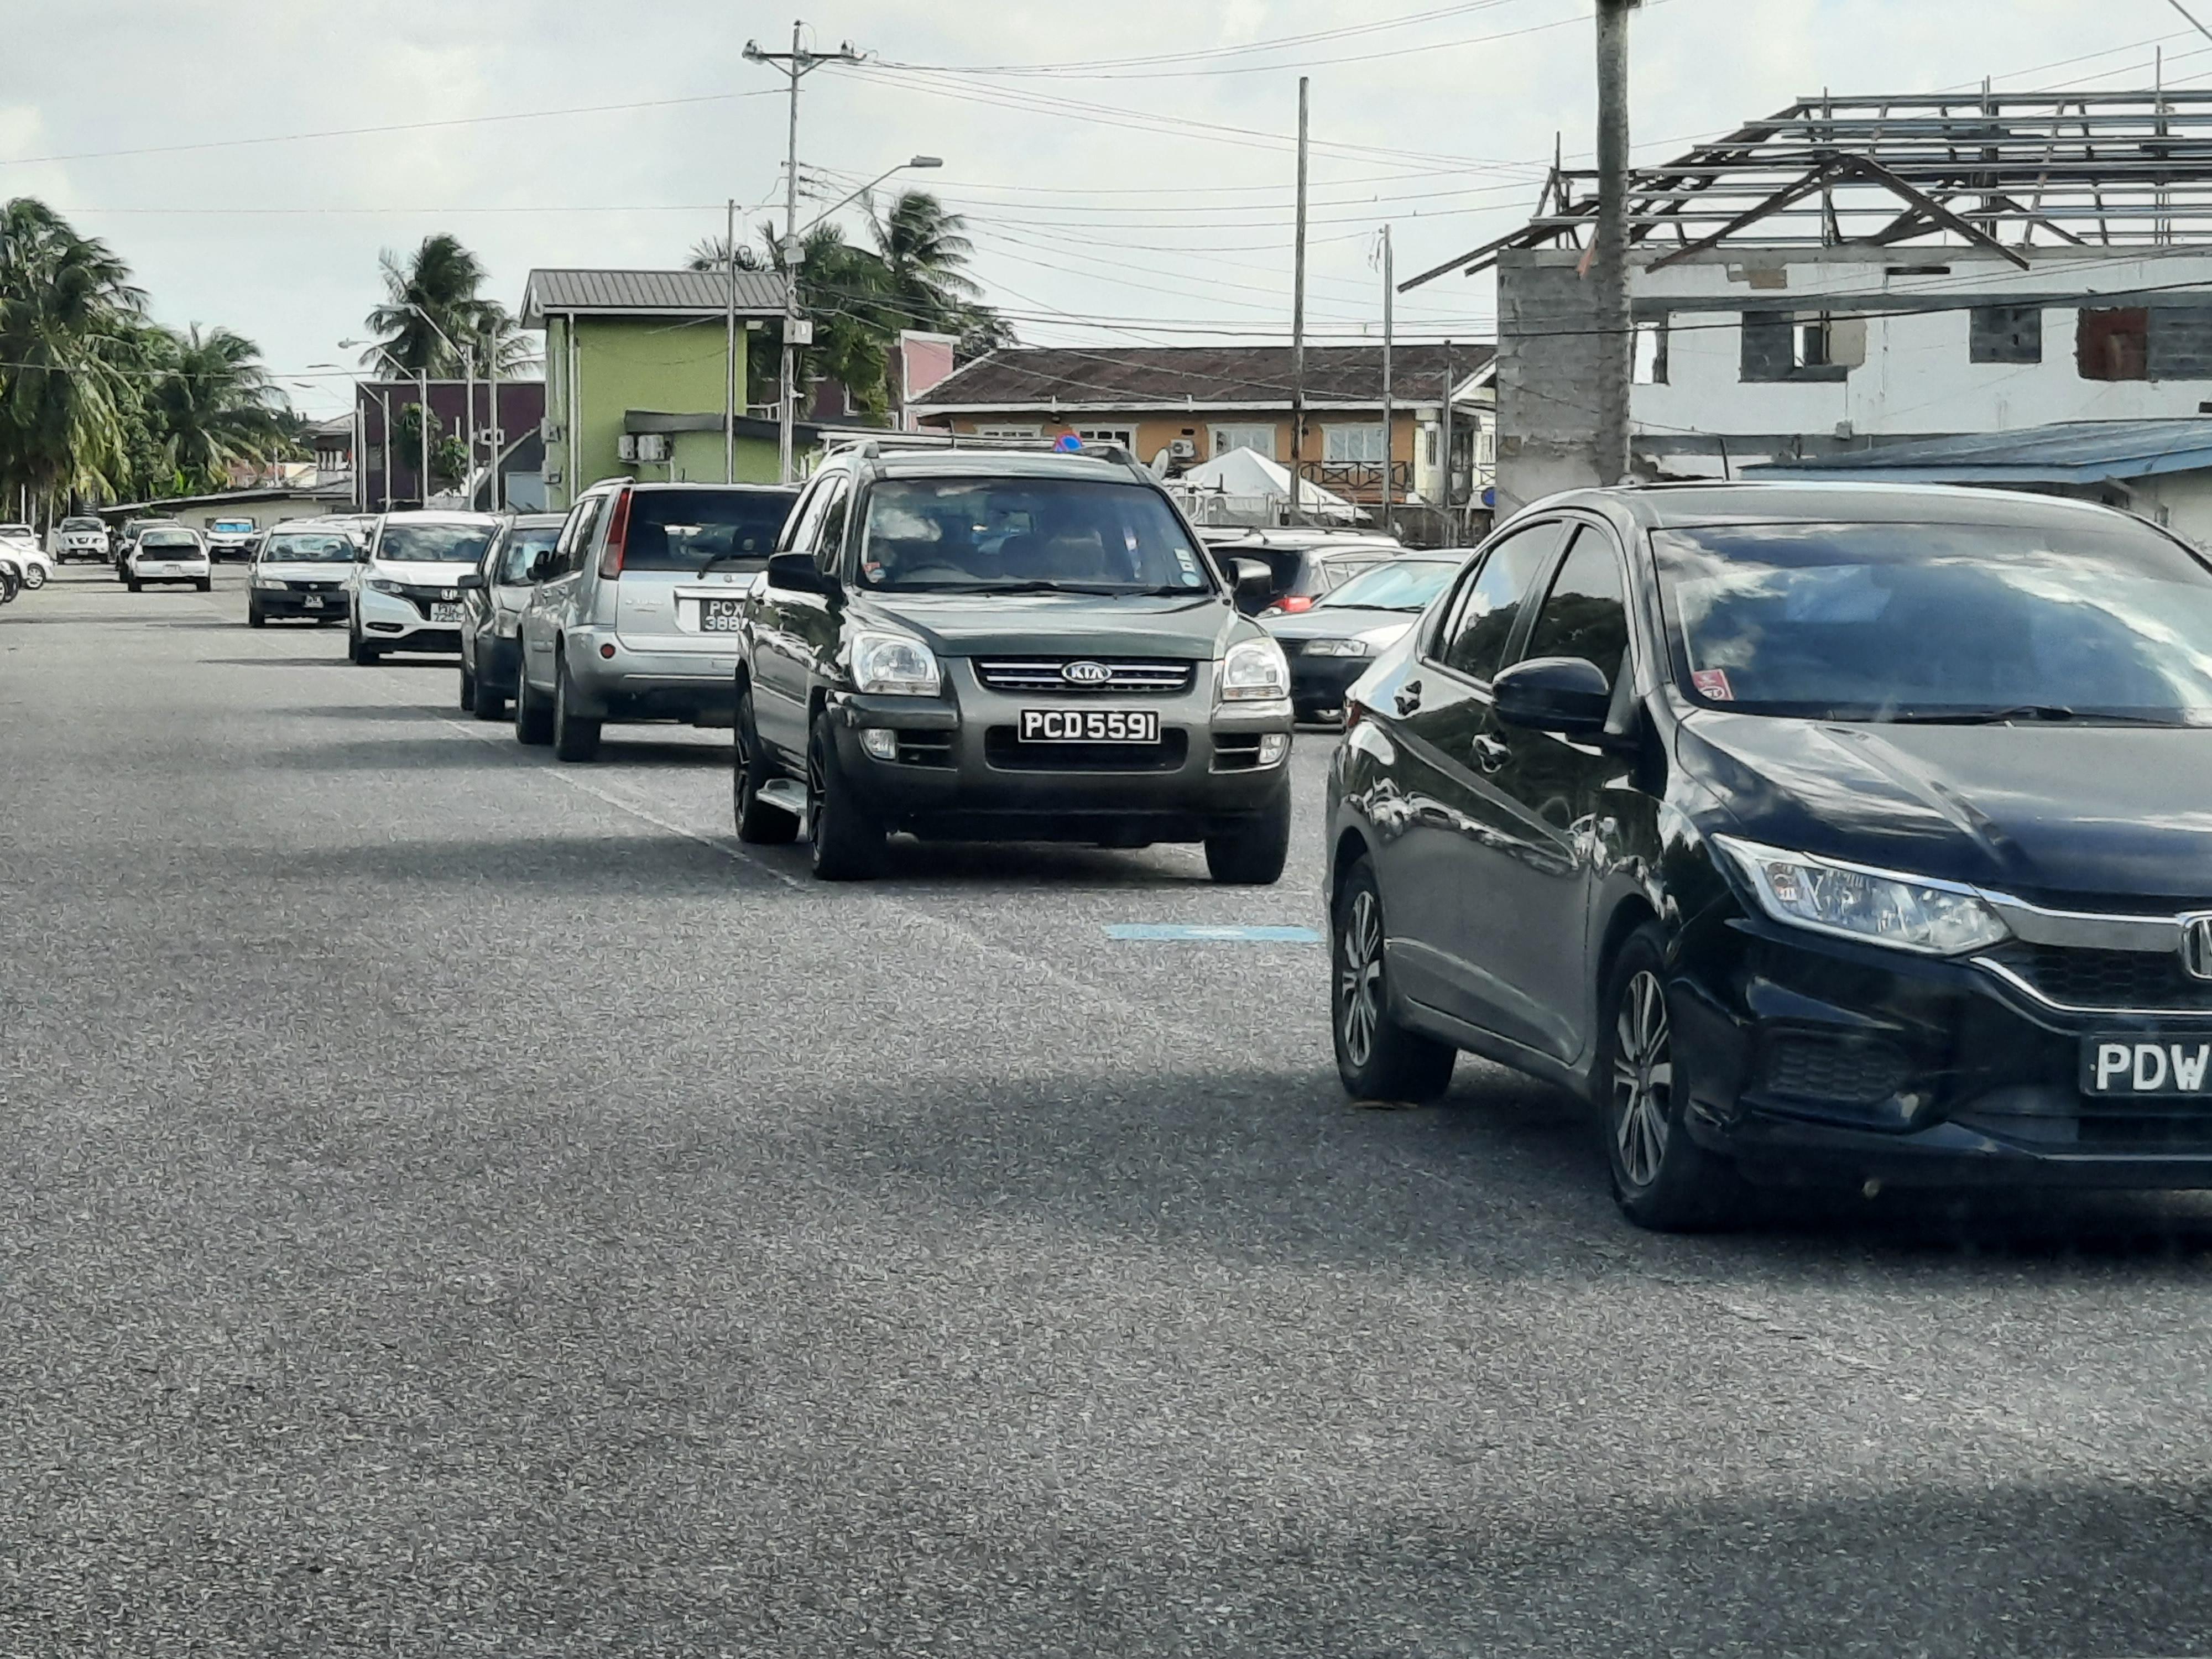License-Plate: (1017, 705, 1162, 744)
